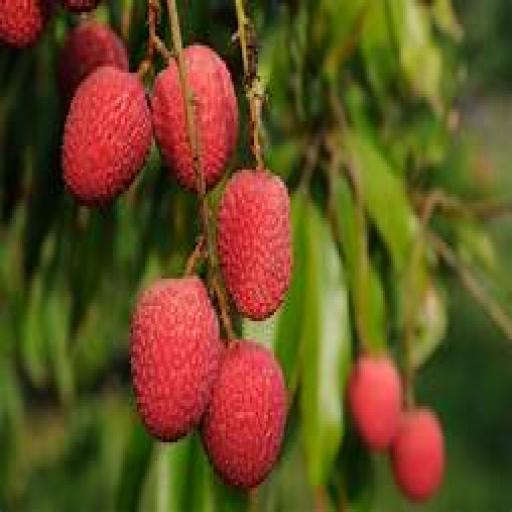lychee: (132, 276, 223, 442), (63, 67, 153, 202), (202, 343, 286, 487), (218, 170, 292, 321), (184, 46, 237, 187), (59, 22, 129, 106), (347, 355, 403, 451), (392, 409, 445, 502), (0, 0, 52, 48), (63, 0, 98, 12)
